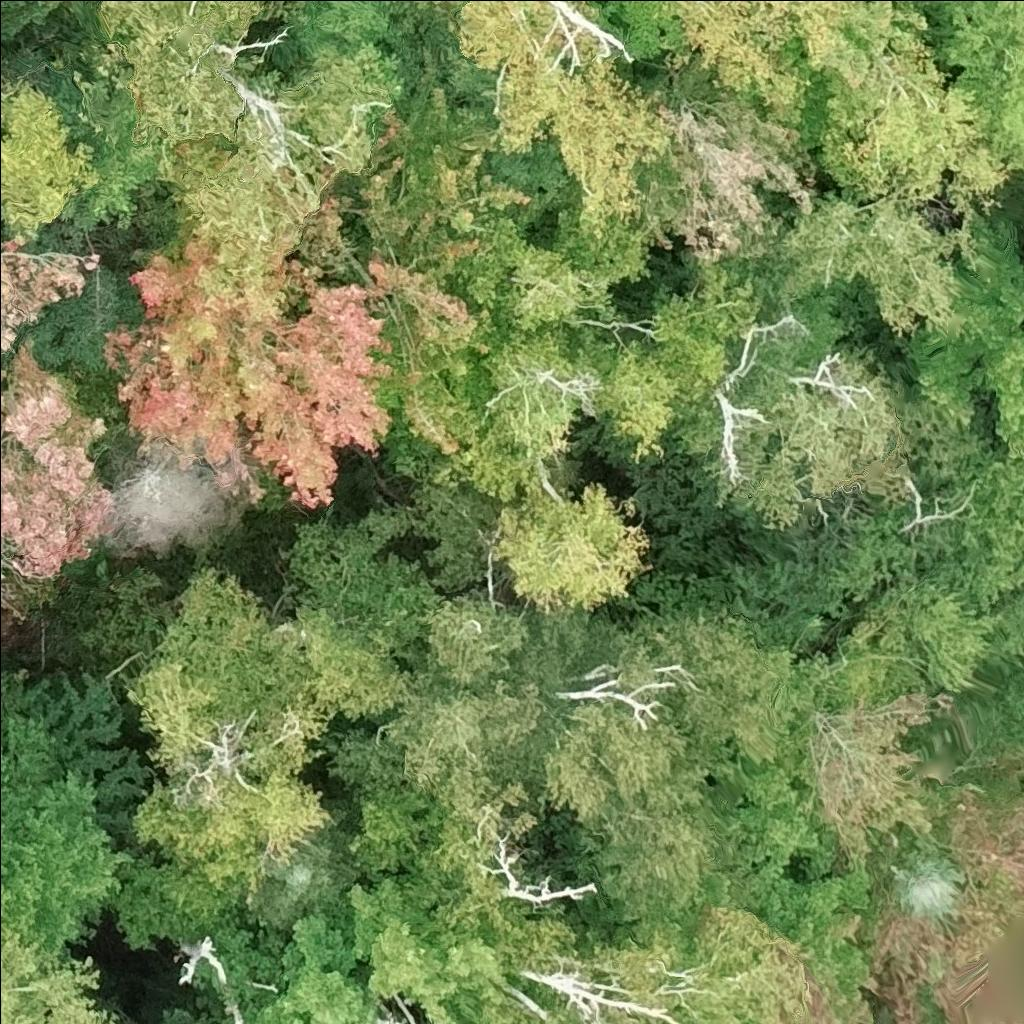crown: (116, 558, 403, 894), (535, 610, 825, 929), (99, 0, 396, 293), (99, 236, 398, 509), (356, 82, 532, 459), (669, 292, 909, 526), (444, 0, 674, 242), (813, 448, 1023, 710), (313, 590, 567, 794), (638, 55, 821, 271), (247, 877, 499, 1023), (754, 189, 980, 341), (820, 39, 1009, 219), (431, 323, 612, 508), (0, 709, 135, 951), (903, 210, 1023, 459), (0, 332, 120, 577), (666, 0, 860, 123), (775, 0, 934, 149), (490, 478, 652, 617), (497, 201, 659, 332), (923, 0, 1023, 171), (102, 442, 245, 558), (243, 796, 361, 935), (650, 259, 778, 384), (591, 337, 715, 464), (0, 81, 99, 230), (0, 233, 99, 361), (0, 928, 121, 1023), (881, 845, 967, 915), (0, 551, 33, 617), (0, 0, 50, 42), (156, 1002, 204, 1023), (451, 1000, 482, 1023), (204, 1011, 236, 1023), (40, 0, 63, 6)
